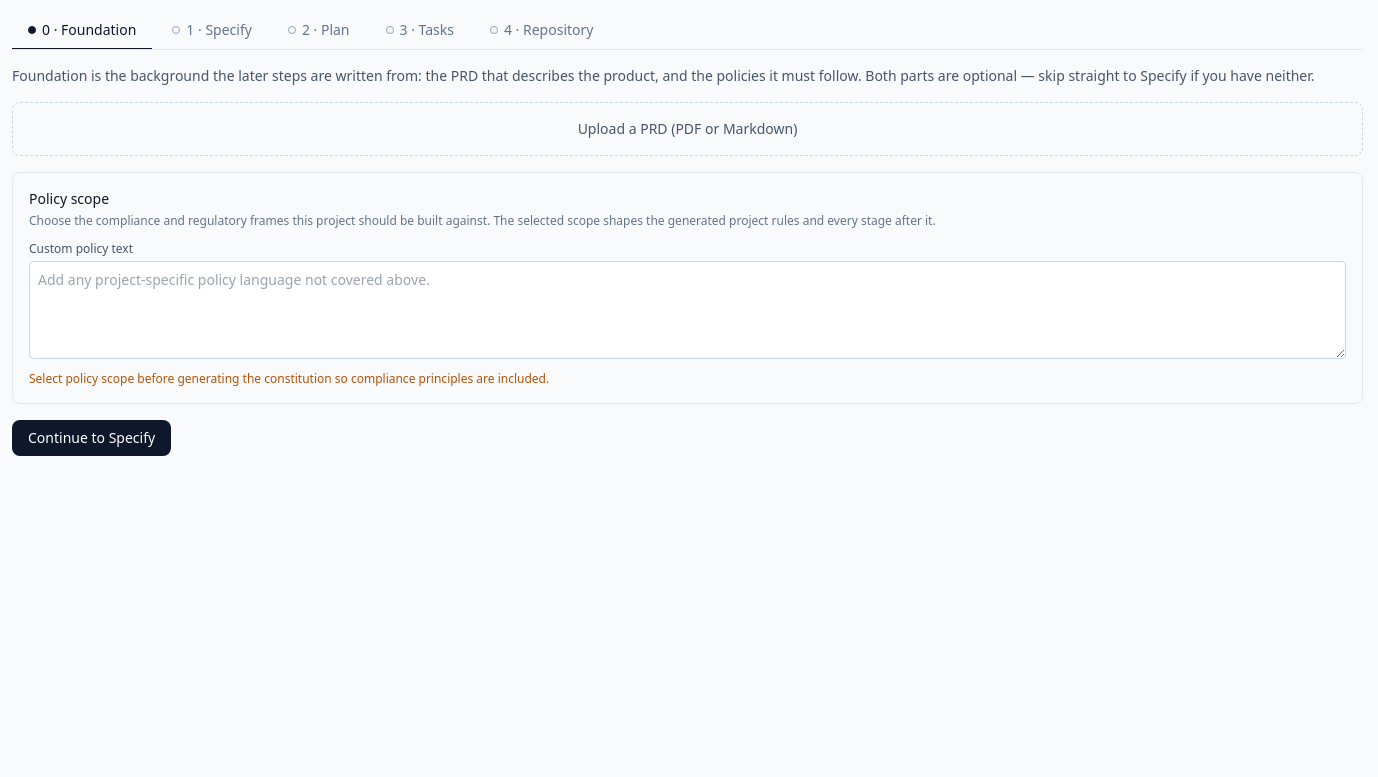
Test: Planner › shows editable stage docs and the create-repository panel when tech_review
The image size is (1378, 777).
Click the tab "1 · Specify".
click(212, 31)  # box [156,12,268,50]
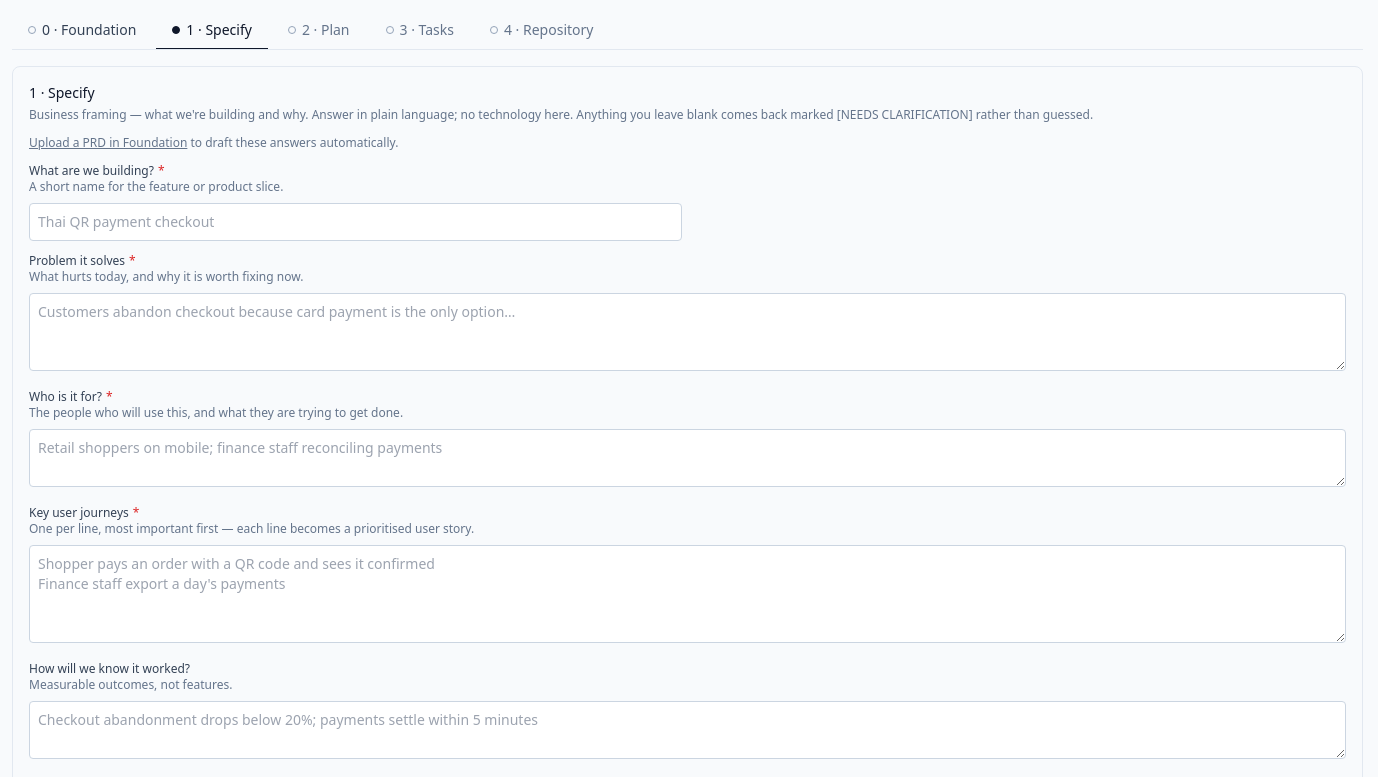
Click the tab "4 · Repository".
click(542, 31)  # box [474,12,610,50]
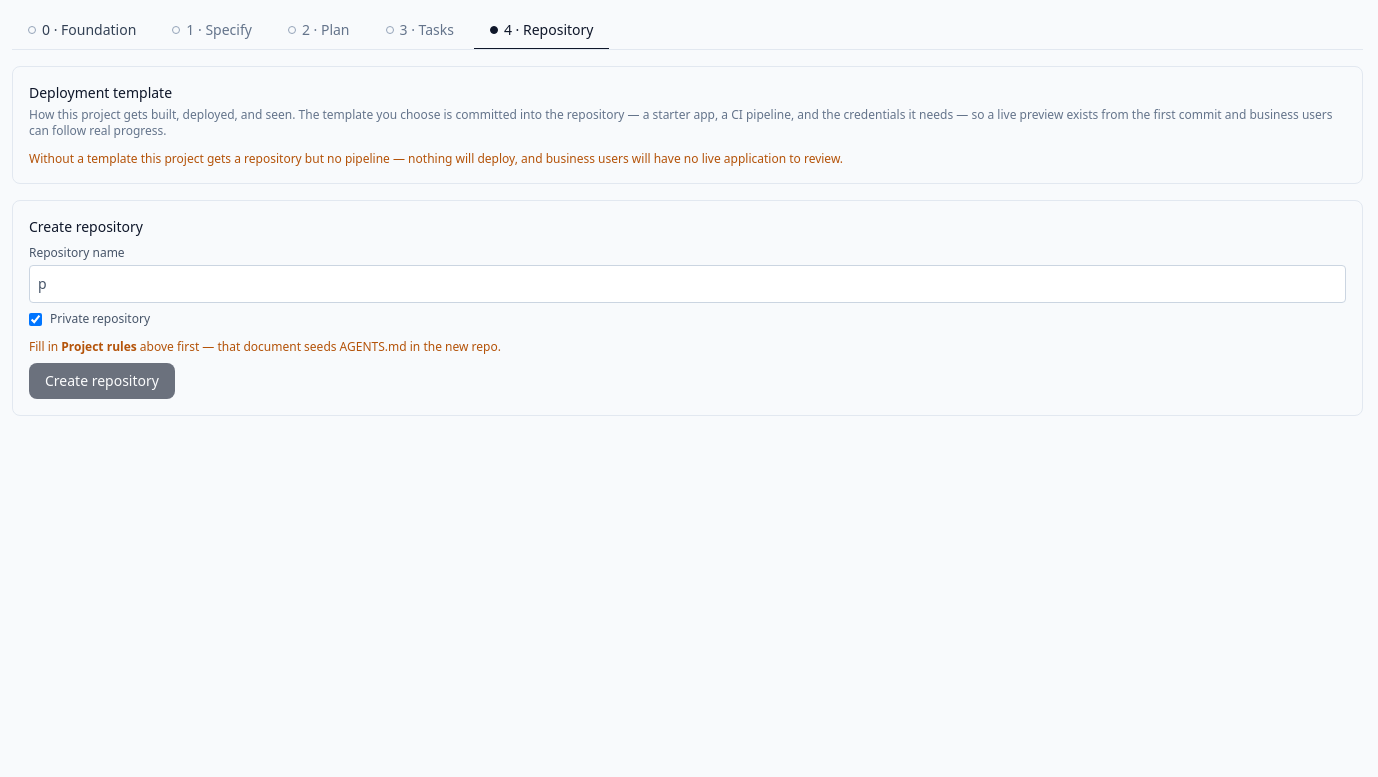
Now the button "Create repository" is shown, box [29,363,175,399]
